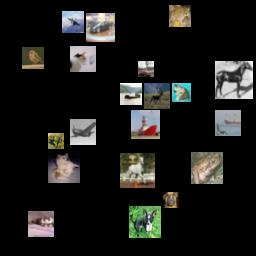airplane: (70, 119, 96, 145), (62, 11, 84, 33)
automobile: (86, 13, 115, 42), (138, 61, 154, 77)
bird: (22, 47, 44, 69)
cat: (70, 46, 96, 72), (28, 211, 54, 237), (172, 83, 191, 102)
deer: (144, 83, 170, 109)
dog: (129, 206, 161, 238), (48, 151, 80, 183), (163, 192, 179, 208)
frog: (191, 152, 223, 184), (169, 5, 191, 27), (48, 133, 64, 149)
ship: (131, 110, 160, 139), (215, 110, 241, 136), (120, 83, 142, 105)
